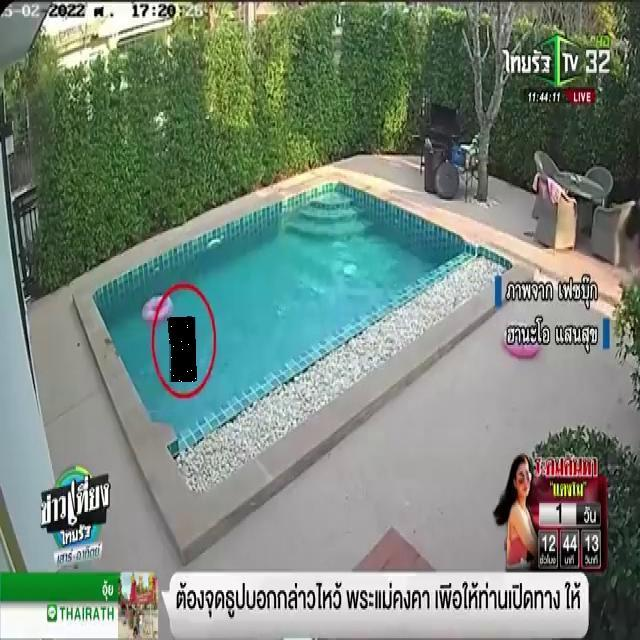Out of Water: (169, 317, 196, 382)
